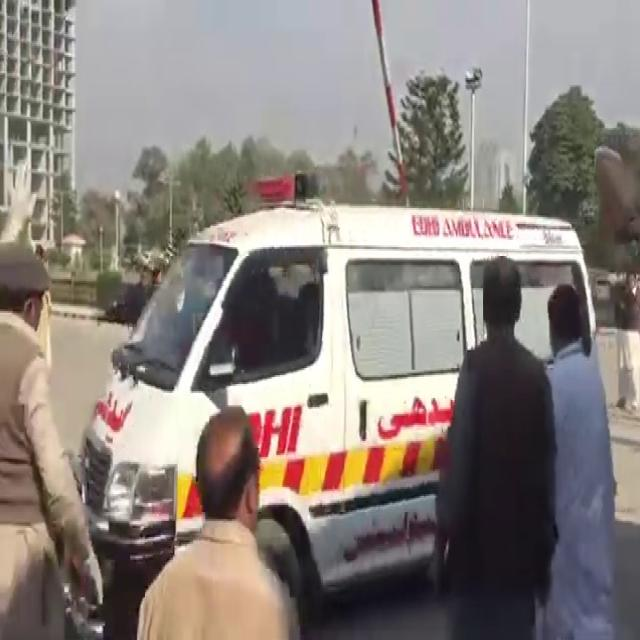ambulance: (103, 194, 594, 512)
